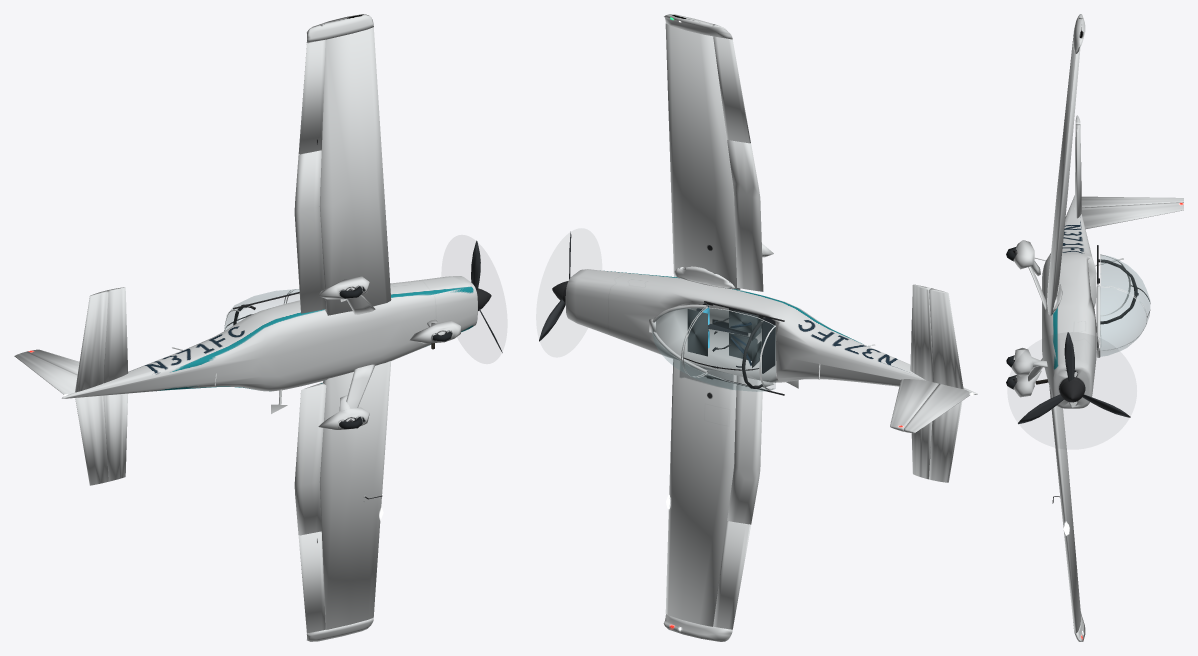
Rendered from exterior-lod2.glb.
3 renders of one model, left to right at view 1: azimuth 30°, elevation 25°; view 2: azimuth 150°, elevation 25°; view 3: azimuth 270°, elevation 25°, orthographic.
Visible parts, largest first — view 1: airframe, wing_right, wing_left, flaps_right, flaps_left, aileron_right, elevator_right, aileron_left, elevator_left, stabilizer_right, stabilizer_left, rudder (+5 smaller); view 2: airframe, wing_left, wing_right, canopy_glass, flaps_right, flaps_left, aileron_left, elevator_right, aileron_right, stabilizer_right, elevator_left, windshield (+8 smaller); view 3: airframe, wing_right, wing_left, windshield, fin, canopy_glass, propeller, rudder, stabilizer_right, wheel_fairing_1, spinner, wheel_fairing_2 (+3 smaller).
Boxes of the visible parts, x1,y1,x2,y2 form: airframe: (62, 276, 477, 398); wing_right: (319, 27, 391, 315); wing_left: (320, 361, 391, 629); flaps_right: (294, 150, 326, 313); flaps_left: (294, 382, 326, 535); aileron_right: (298, 39, 325, 154); elevator_right: (75, 290, 108, 392); aileron_left: (298, 531, 325, 633); elevator_left: (75, 395, 108, 485); stabilizer_right: (103, 287, 128, 383); stabilizer_left: (103, 393, 127, 481); rudder: (14, 352, 77, 395); airframe: (565, 269, 977, 394); wing_left: (665, 359, 736, 626); wing_right: (665, 23, 740, 289); canopy_glass: (683, 308, 775, 391); flaps_right: (727, 140, 763, 291); flaps_left: (727, 375, 762, 524); aileron_left: (713, 521, 750, 629); elevator_right: (929, 288, 963, 388); aileron_right: (713, 36, 750, 143); stabilizer_right: (910, 284, 933, 382); elevator_left: (929, 401, 962, 482); windshield: (652, 308, 702, 374); airframe: (1042, 195, 1096, 408); wing_right: (1047, 35, 1080, 315); wing_left: (1049, 386, 1080, 633); windshield: (1100, 287, 1146, 356); fin: (1081, 202, 1183, 229); canopy_glass: (1101, 255, 1149, 324); propeller: (1018, 332, 1130, 424); rudder: (1081, 196, 1183, 207); stabilizer_right: (1074, 124, 1081, 218); wheel_fairing_1: (1013, 240, 1040, 275); spinner: (1059, 377, 1085, 402); wheel_fairing_2: (1011, 347, 1041, 376).
Size of the model in its own units: 6.68 by 9.17 by 2.45.
16 materials, 14 textured.
